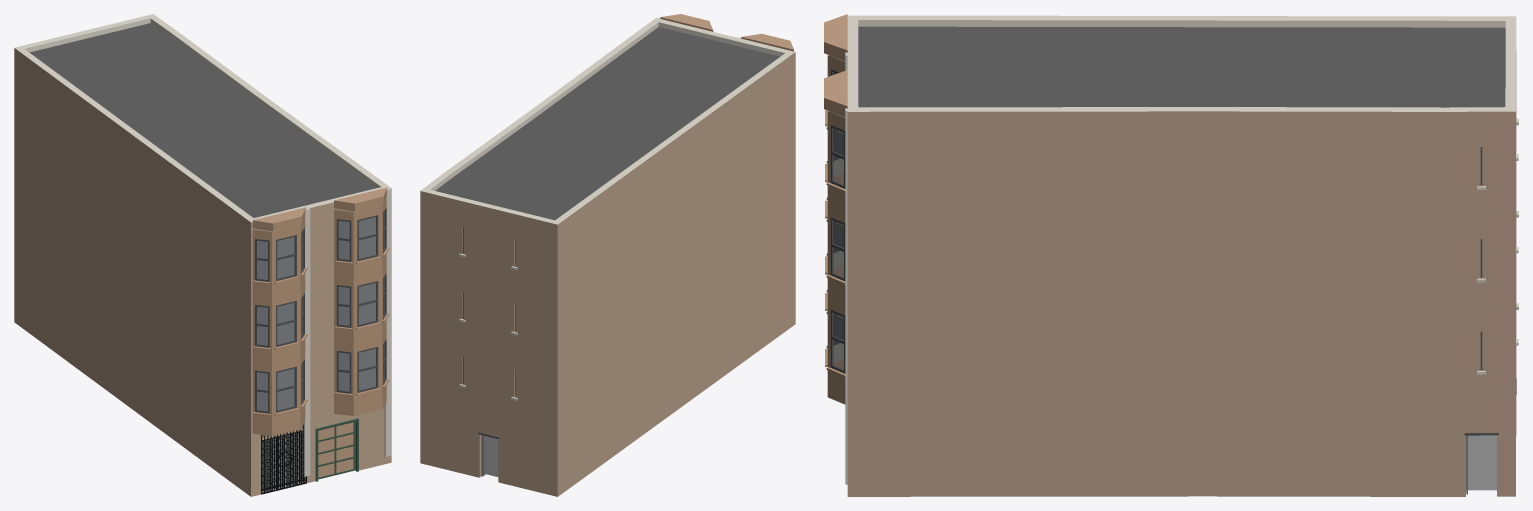
File: exterior.glb
3 renders of one model, left to right at view 1: azimuth 30°, elevation 25°; view 2: azimuth 150°, elevation 25°; view 3: azimuth 270°, elevation 25°, orthographic. The views are drawn at different scales.
Visible parts, largest first — view 1: shell, roof, bay-windows, bay-glazing, shadow-proxy, storefront, relief-3, lattice-gates-3; view 2: shell, roof, bay-windows, shadow-proxy; view 3: shell, roof, bay-windows, bay-glazing, shadow-proxy, relief-3.
Part boxes in pixels (left/top/right/bottom): shell: left=14, top=14, right=391, bottom=496; roof: left=29, top=23, right=376, bottom=217; bay-windows: left=252, top=187, right=389, bottom=435; bay-glazing: left=255, top=207, right=386, bottom=413; shadow-proxy: left=257, top=217, right=375, bottom=488; storefront: left=262, top=418, right=358, bottom=492; relief-3: left=303, top=188, right=391, bottom=476; lattice-gates-3: left=261, top=425, right=306, bottom=494; shell: left=420, top=18, right=795, bottom=496; roof: left=435, top=27, right=779, bottom=220; bay-windows: left=660, top=14, right=793, bottom=51; shadow-proxy: left=485, top=436, right=498, bottom=476; shell: left=847, top=15, right=1516, bottom=496; roof: left=858, top=26, right=1505, bottom=107; bay-windows: left=824, top=14, right=847, bottom=404; bay-glazing: left=829, top=55, right=845, bottom=373; shadow-proxy: left=1466, top=435, right=1496, bottom=490; relief-3: left=845, top=52, right=847, bottom=484.
Bounding box in the file's own units: 7.47 × 13.85 × 22.51.
